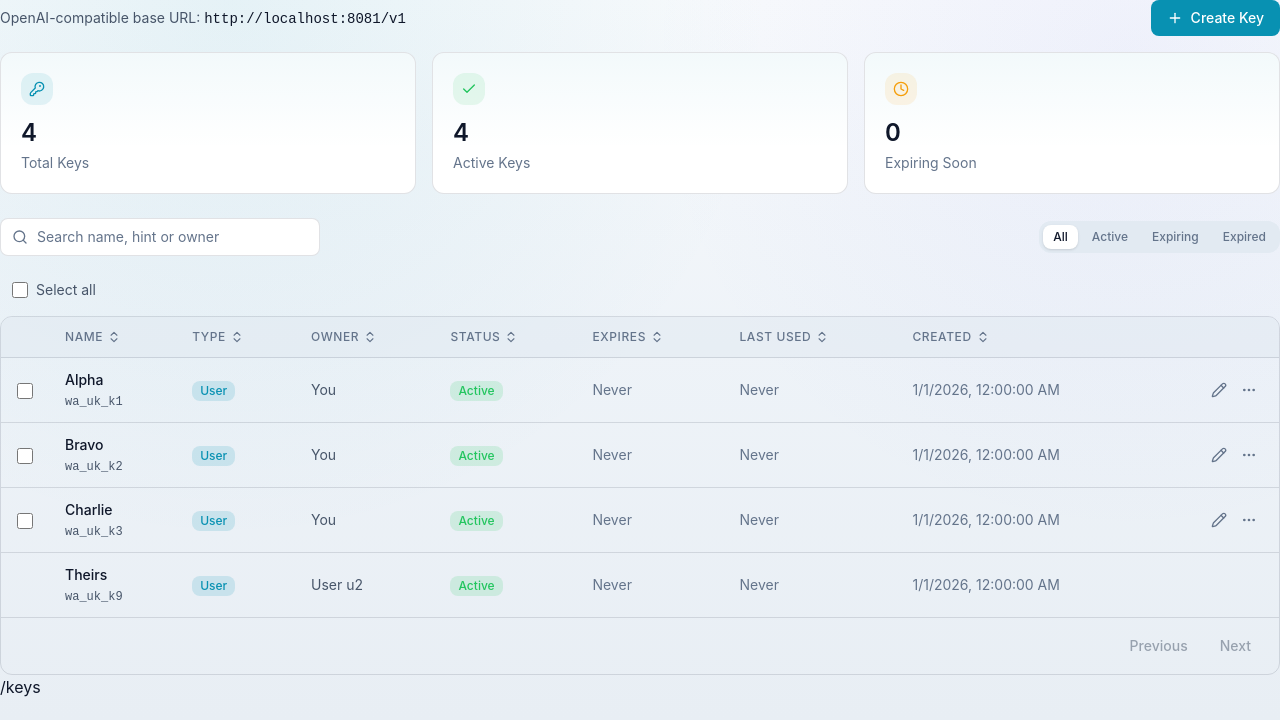
KeysPage bulk revoke › revokes selected keys sequentially, requiring the count, and reports partial failure
Expected: the text "Alpha" is shown, [65, 371, 104, 388]
Click the checkbox named "Select all revocable keys on this page" at point(20, 290), box [12, 282, 28, 298]
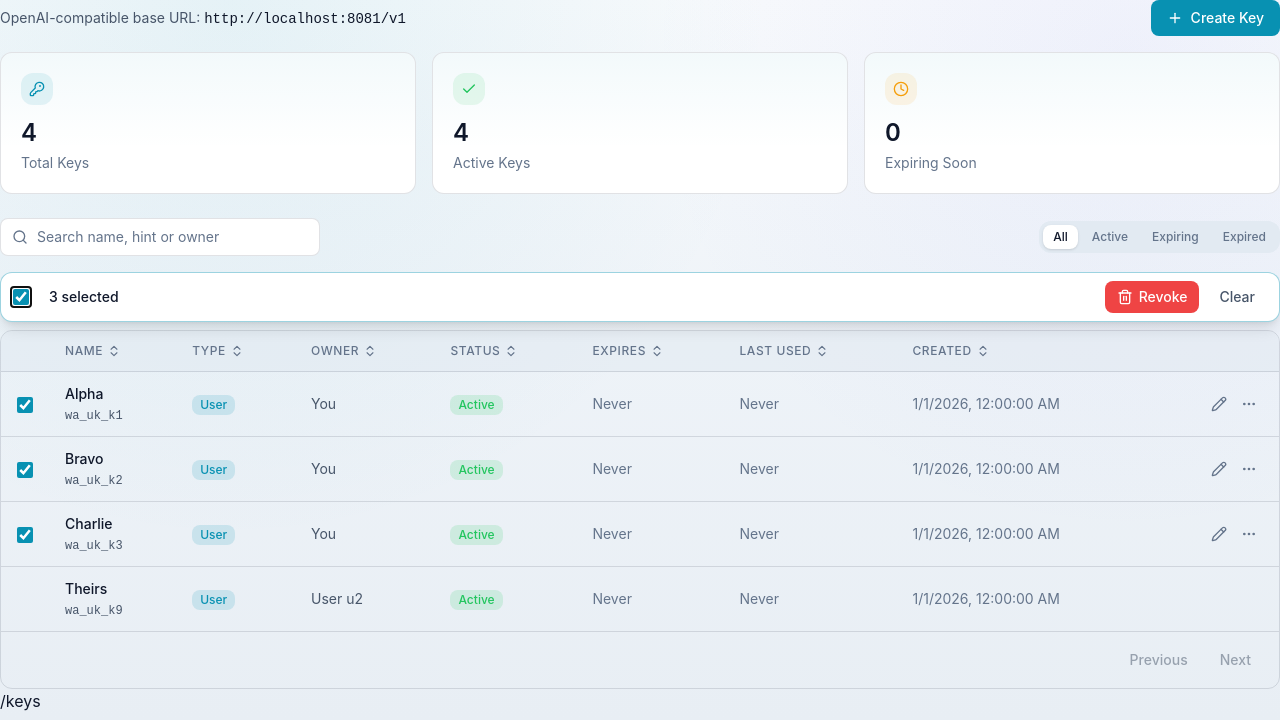
Expected: the element named "Bulk actions" shows "3 selected", [0, 272, 1279, 322]
Click the button "Revoke" at point(1152, 297), box [1105, 281, 1200, 313]
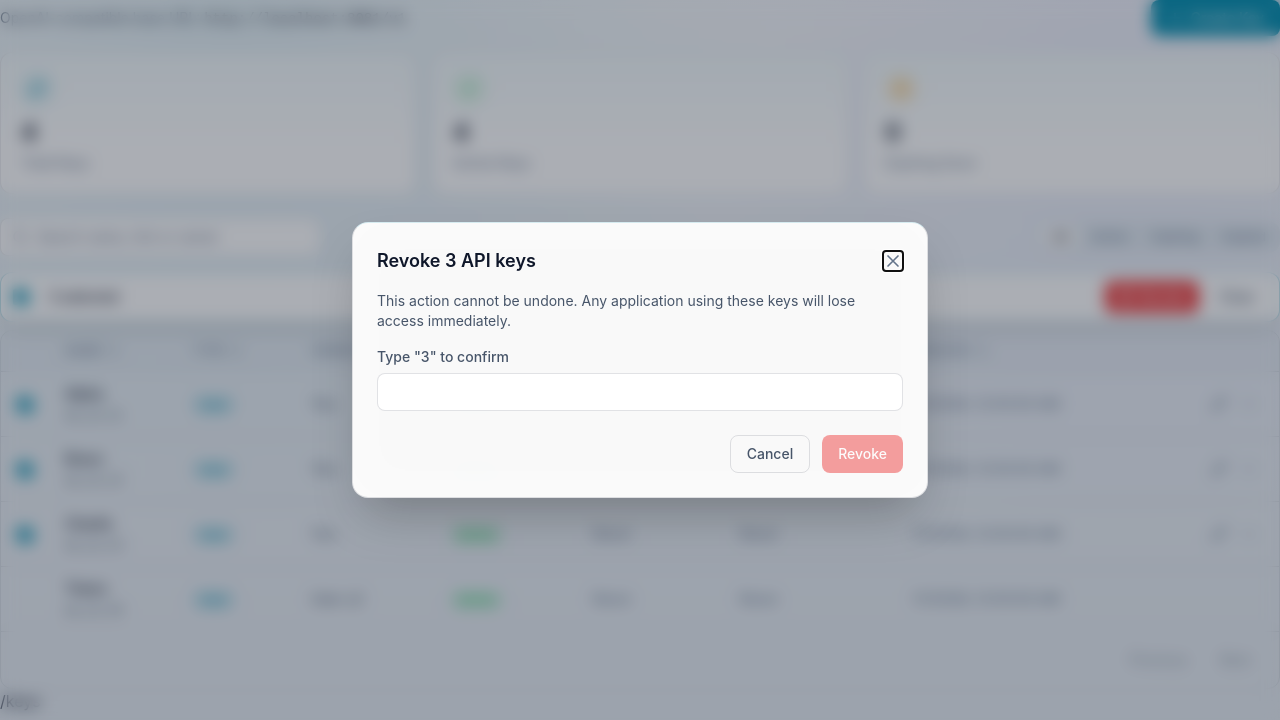
Expected: the button "Revoke" is disabled, [822, 435, 903, 473]
Type "3" into the field labelled "Type \"3\" to confirm" at point(640, 392), box [377, 373, 903, 411]
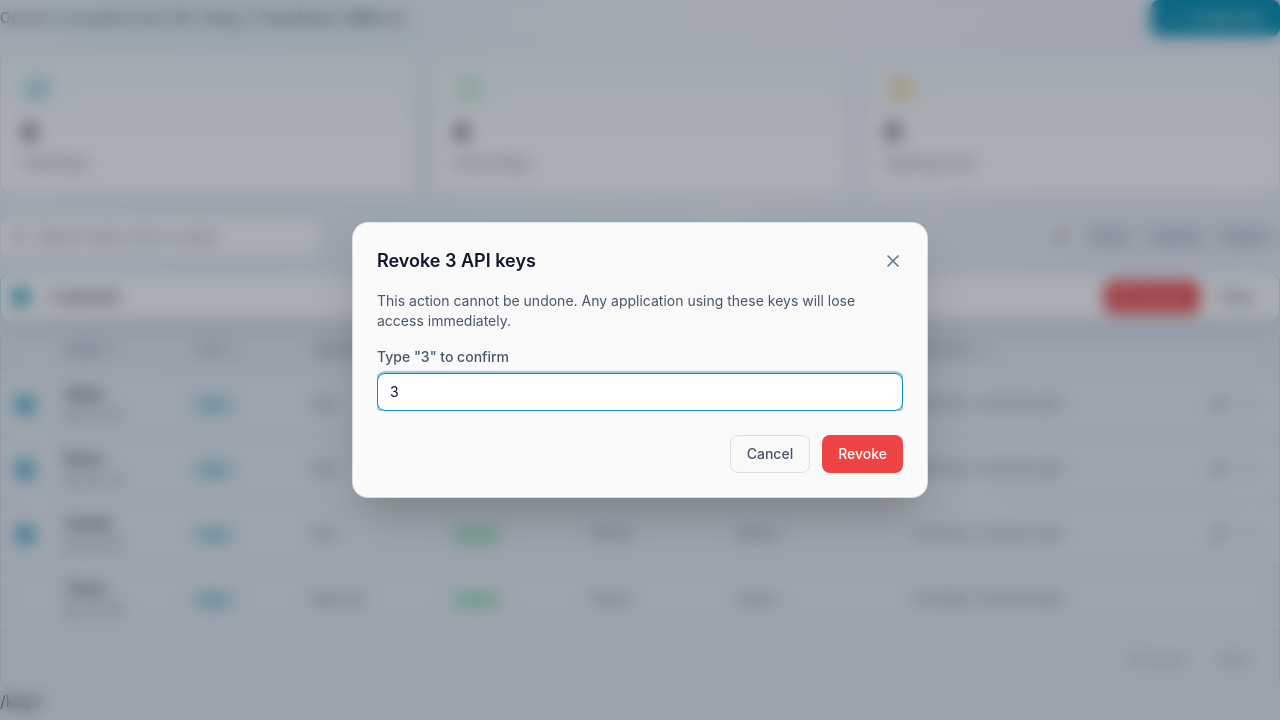
Click the button "Revoke" at point(863, 454), box [822, 435, 903, 473]
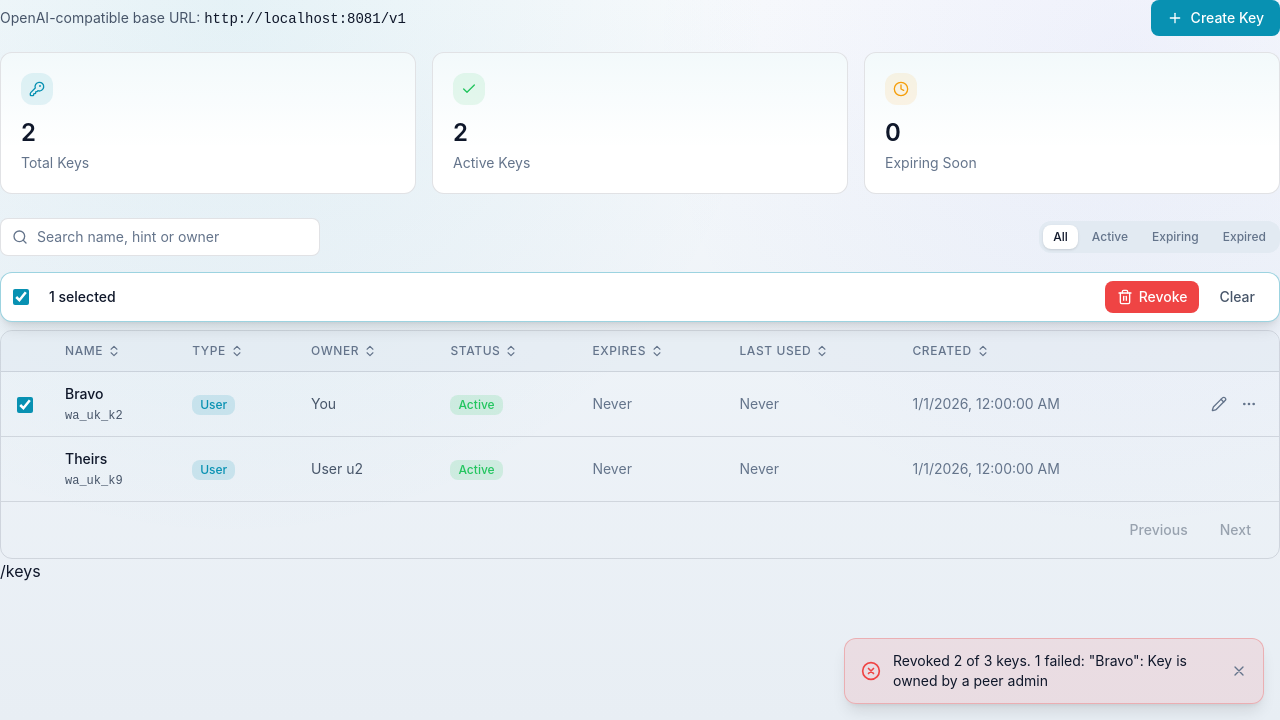
Expected: the dialog is gone
Expected: the text "Revoked 2 of 3 keys. 1 failed: \"Bravo\": Key is owned by a peer admin" is shown, [893, 651, 1219, 691]
Expected: the element named "Bulk actions" shows "1 selected", [0, 272, 1279, 322]
